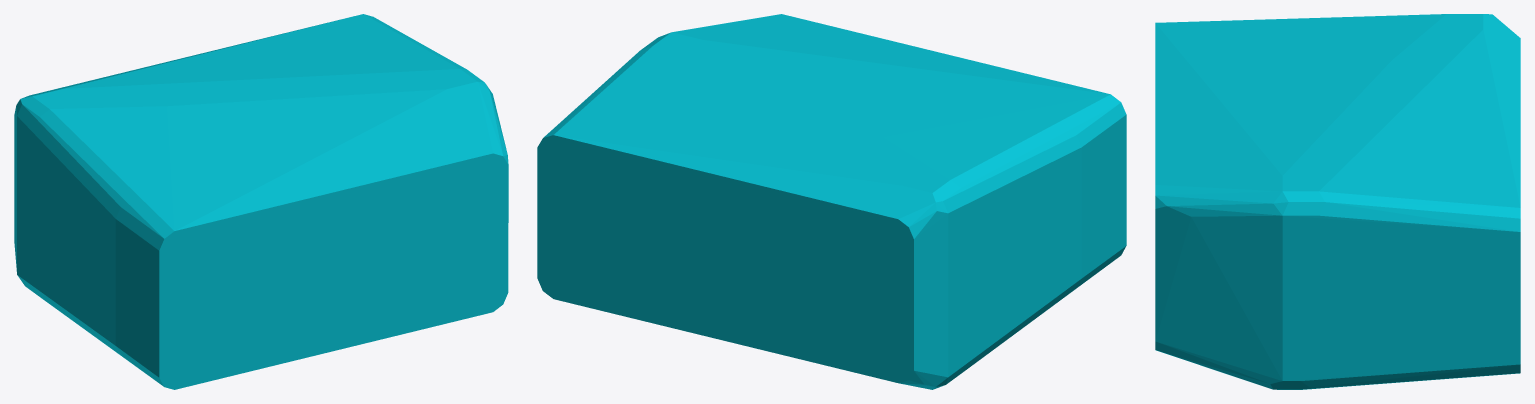
The model's file is model5_convex_piece_001.obj.
The picture shows the model from 3 angles, left to right: view 1: azimuth 30°, elevation 25°; view 2: azimuth 150°, elevation 25°; view 3: azimuth 270°, elevation 25°; orthographic projection. The views are drawn at different scales.
Size of the model in its own units: 0.0181 by 0.00834 by 0.0139.
